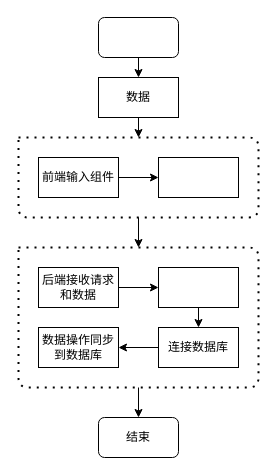
Image size: 277x475. Some labels were removed from this diagram. The shapes that lost their labels are listed below. From the top down, each one's centre as x and y in pixels, then its label:
point (138, 37): 开始
point (198, 177): 前端变量存储
point (198, 287): 数据操作和数据库语句构建
